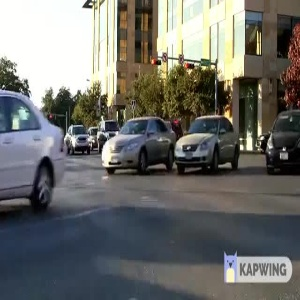car: (98, 114, 178, 174), (173, 113, 243, 174), (261, 109, 300, 173)
